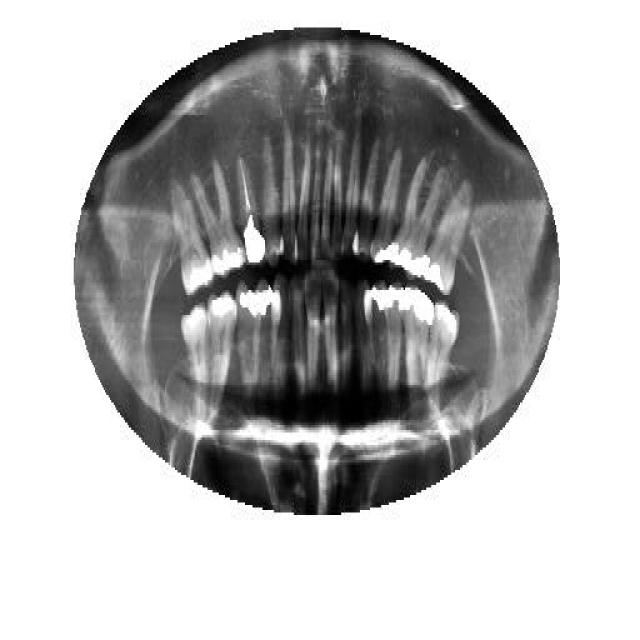Fillings: (390, 152, 442, 282), (191, 160, 245, 280), (422, 177, 472, 295), (172, 180, 214, 298), (370, 143, 401, 265), (400, 290, 434, 400), (205, 292, 236, 412), (426, 302, 462, 400), (236, 280, 255, 395), (254, 275, 272, 395), (385, 282, 403, 398), (370, 282, 386, 388)
Implant: (234, 150, 266, 272)
